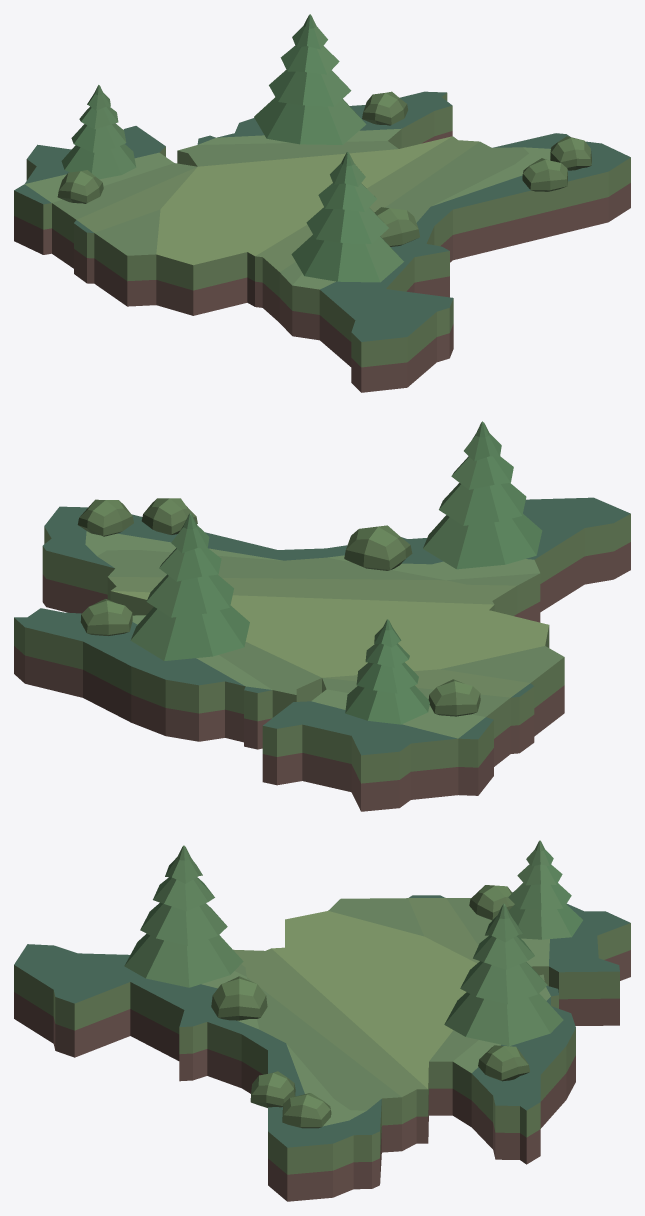
File: saskilah.gltf
3 views of the same model, one above another, from view 1: azimuth 30°, elevation 25°; view 2: azimuth 150°, elevation 25°; view 3: azimuth 270°, elevation 25° (orthographic). The views are drawn at different scales.
Parts seen in each view (by area): view 1: саскылах; view 2: саскылах; view 3: саскылах.
Boxes of the visible parts, x1,y1,x2,y2 form: саскылах: (14,14,630,392); саскылах: (14,421,630,811); саскылах: (14,840,630,1201).
Bounding box in the file's own units: 1.6 × 0.5325 × 1.62.
